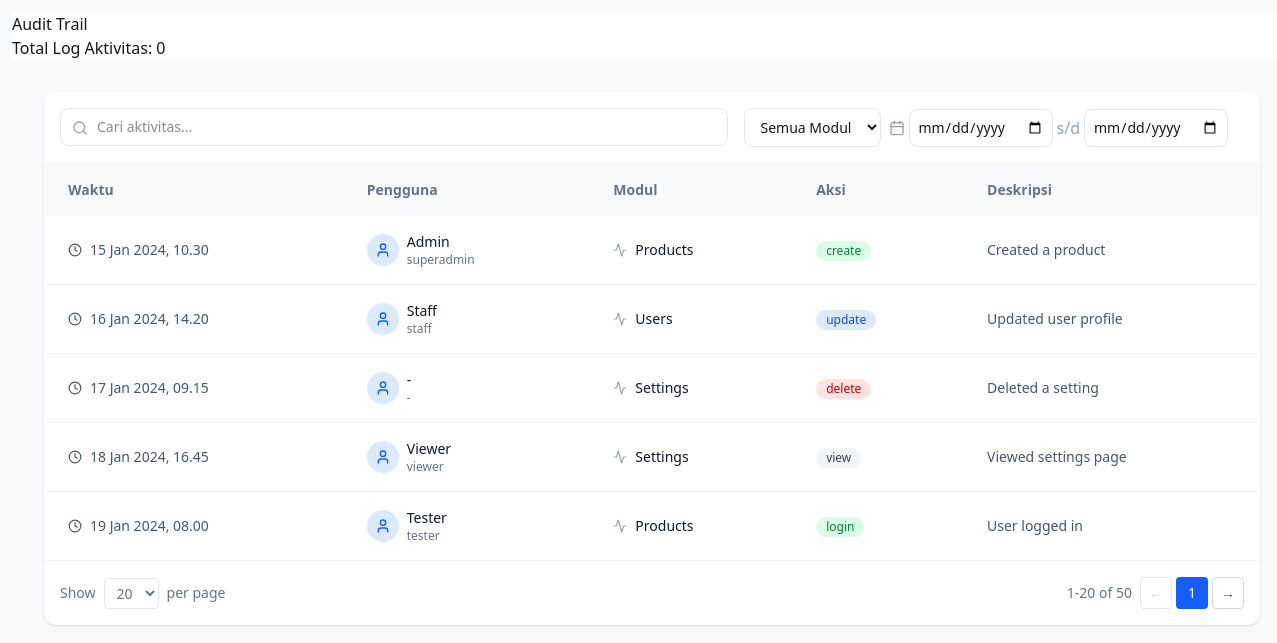
Test: AuditTrailsPage › pagination display with multiple pages
Expected: the text "1-20 of 50" is shown, x1=1067 y1=583 x2=1132 y2=603
Click the button "→": coordinates (1228, 593) x1=1212 y1=577 x2=1244 y2=609
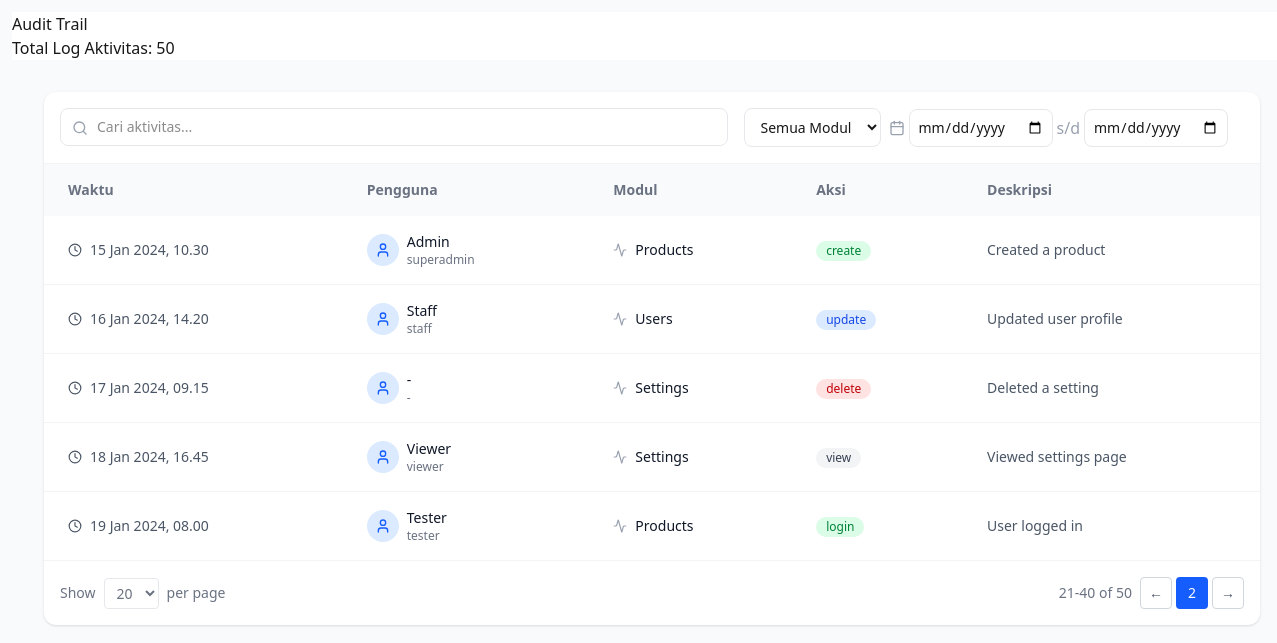
Result: the text "21-40 of 50" is shown at x1=1059 y1=583 x2=1132 y2=603
